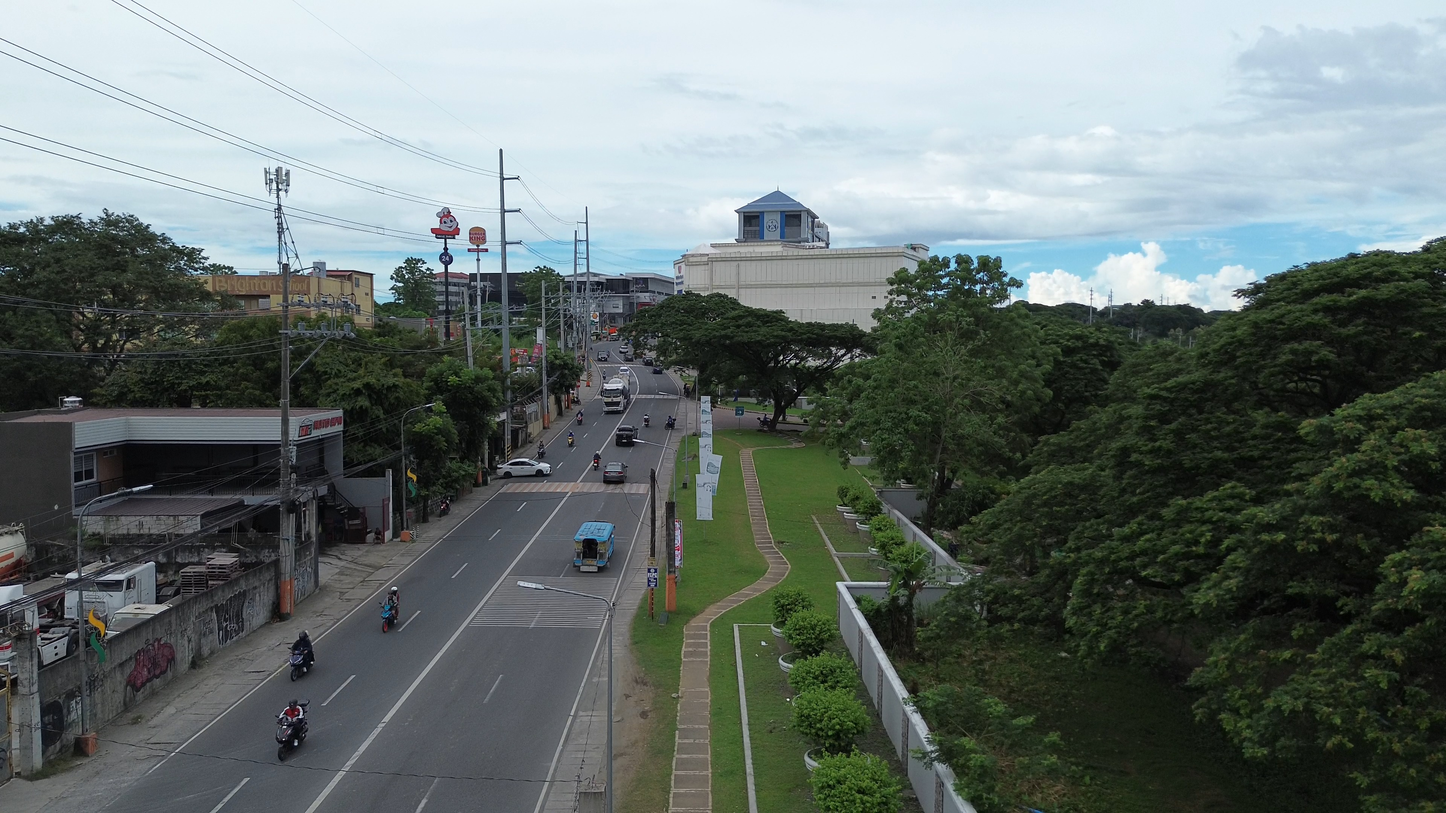car: (499, 458, 551, 478), (602, 462, 627, 483), (596, 351, 610, 362), (642, 356, 655, 366), (651, 365, 663, 374), (619, 365, 630, 374)
motorcycle: (276, 713, 308, 760), (289, 651, 311, 681), (381, 602, 398, 633), (439, 498, 450, 516), (665, 416, 675, 430), (537, 444, 546, 458), (592, 455, 600, 470), (567, 433, 575, 447), (576, 411, 583, 425), (644, 414, 650, 426)
vehicle: (65, 562, 156, 618), (106, 603, 169, 638), (575, 522, 614, 572), (0, 524, 27, 580), (601, 378, 630, 413), (379, 600, 398, 633), (290, 652, 310, 681), (615, 425, 636, 446), (596, 351, 610, 362), (618, 365, 631, 376), (665, 416, 675, 430), (592, 453, 600, 470), (642, 356, 655, 366), (567, 432, 575, 447), (643, 414, 650, 427)
